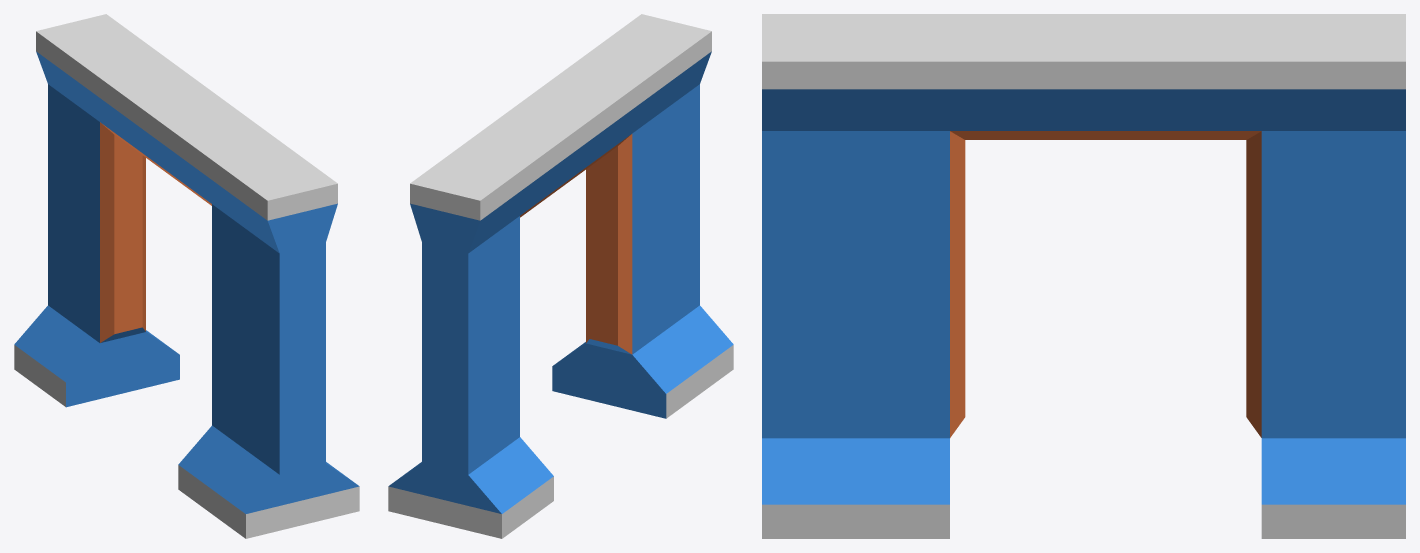
File: Wall with Door.fbx
3 renders of one model, left to right at view 1: azimuth 30°, elevation 25°; view 2: azimuth 150°, elevation 25°; view 3: azimuth 270°, elevation 25°, orthographic. The views are drawn at different scales.
Parts seen in each view (by area): view 1: Wall Door; view 2: Wall Door; view 3: Wall Door.
Boxes of the visible parts, bbox=[...] form: Wall Door: bbox=[14, 14, 359, 538]; Wall Door: bbox=[388, 14, 733, 538]; Wall Door: bbox=[762, 14, 1405, 538].
Size of the model in its own units: 156 by 436 by 550.
